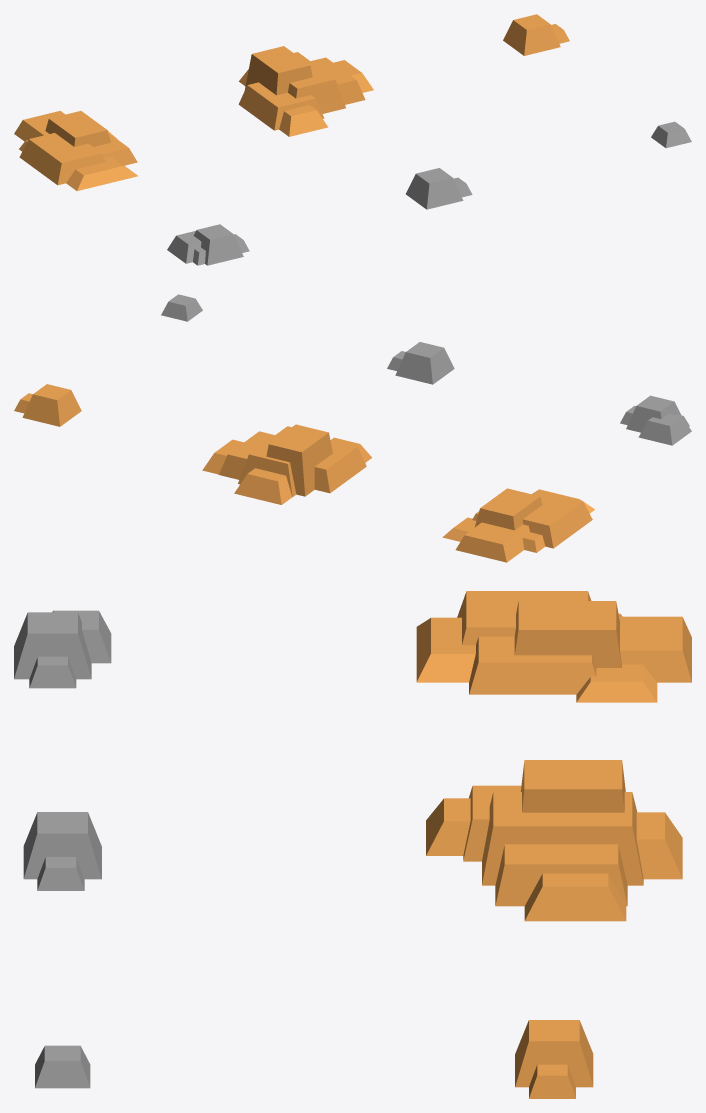
Rendered from Rocks.FBX.
The picture shows the model from 3 angles, top to bottom: view 1: azimuth 30°, elevation 25°; view 2: azimuth 150°, elevation 25°; view 3: azimuth 270°, elevation 25°; orthographic projection. The views are drawn at different scales.
Parts seen in each view (by area): view 1: rock_brown_02, rock_brown_01, rock_grey_01, rock_brown_03, rock_grey_02, rock_grey_03; view 2: rock_brown_02, rock_brown_01, rock_grey_01, rock_brown_03, rock_grey_02, rock_grey_03; view 3: rock_brown_02, rock_brown_01, rock_grey_01, rock_grey_02, rock_brown_03, rock_grey_03.
Boxes of the visible parts, x1,y1,x2,y2 form: rock_brown_02: (238, 46, 373, 136); rock_brown_01: (14, 110, 138, 190); rock_grey_01: (167, 224, 249, 265); rock_brown_03: (503, 14, 569, 55); rock_grey_02: (406, 168, 472, 209); rock_grey_03: (651, 121, 691, 148); rock_brown_02: (202, 424, 371, 504); rock_brown_01: (442, 488, 594, 562); rock_grey_01: (620, 395, 691, 445); rock_brown_03: (14, 384, 81, 426); rock_grey_02: (387, 342, 454, 384); rock_grey_03: (161, 294, 202, 321); rock_brown_02: (426, 760, 682, 921); rock_brown_01: (416, 591, 691, 702); rock_grey_01: (14, 610, 111, 688); rock_grey_02: (23, 812, 101, 890); rock_brown_03: (515, 1020, 593, 1098); rock_grey_03: (35, 1045, 90, 1088).
Size of the model in its own units: 1154 by 83.7 by 690.
1 material, 1 textured.
